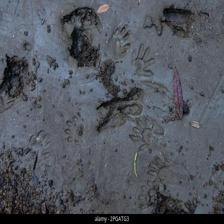raccoon: (130, 45, 157, 81)
